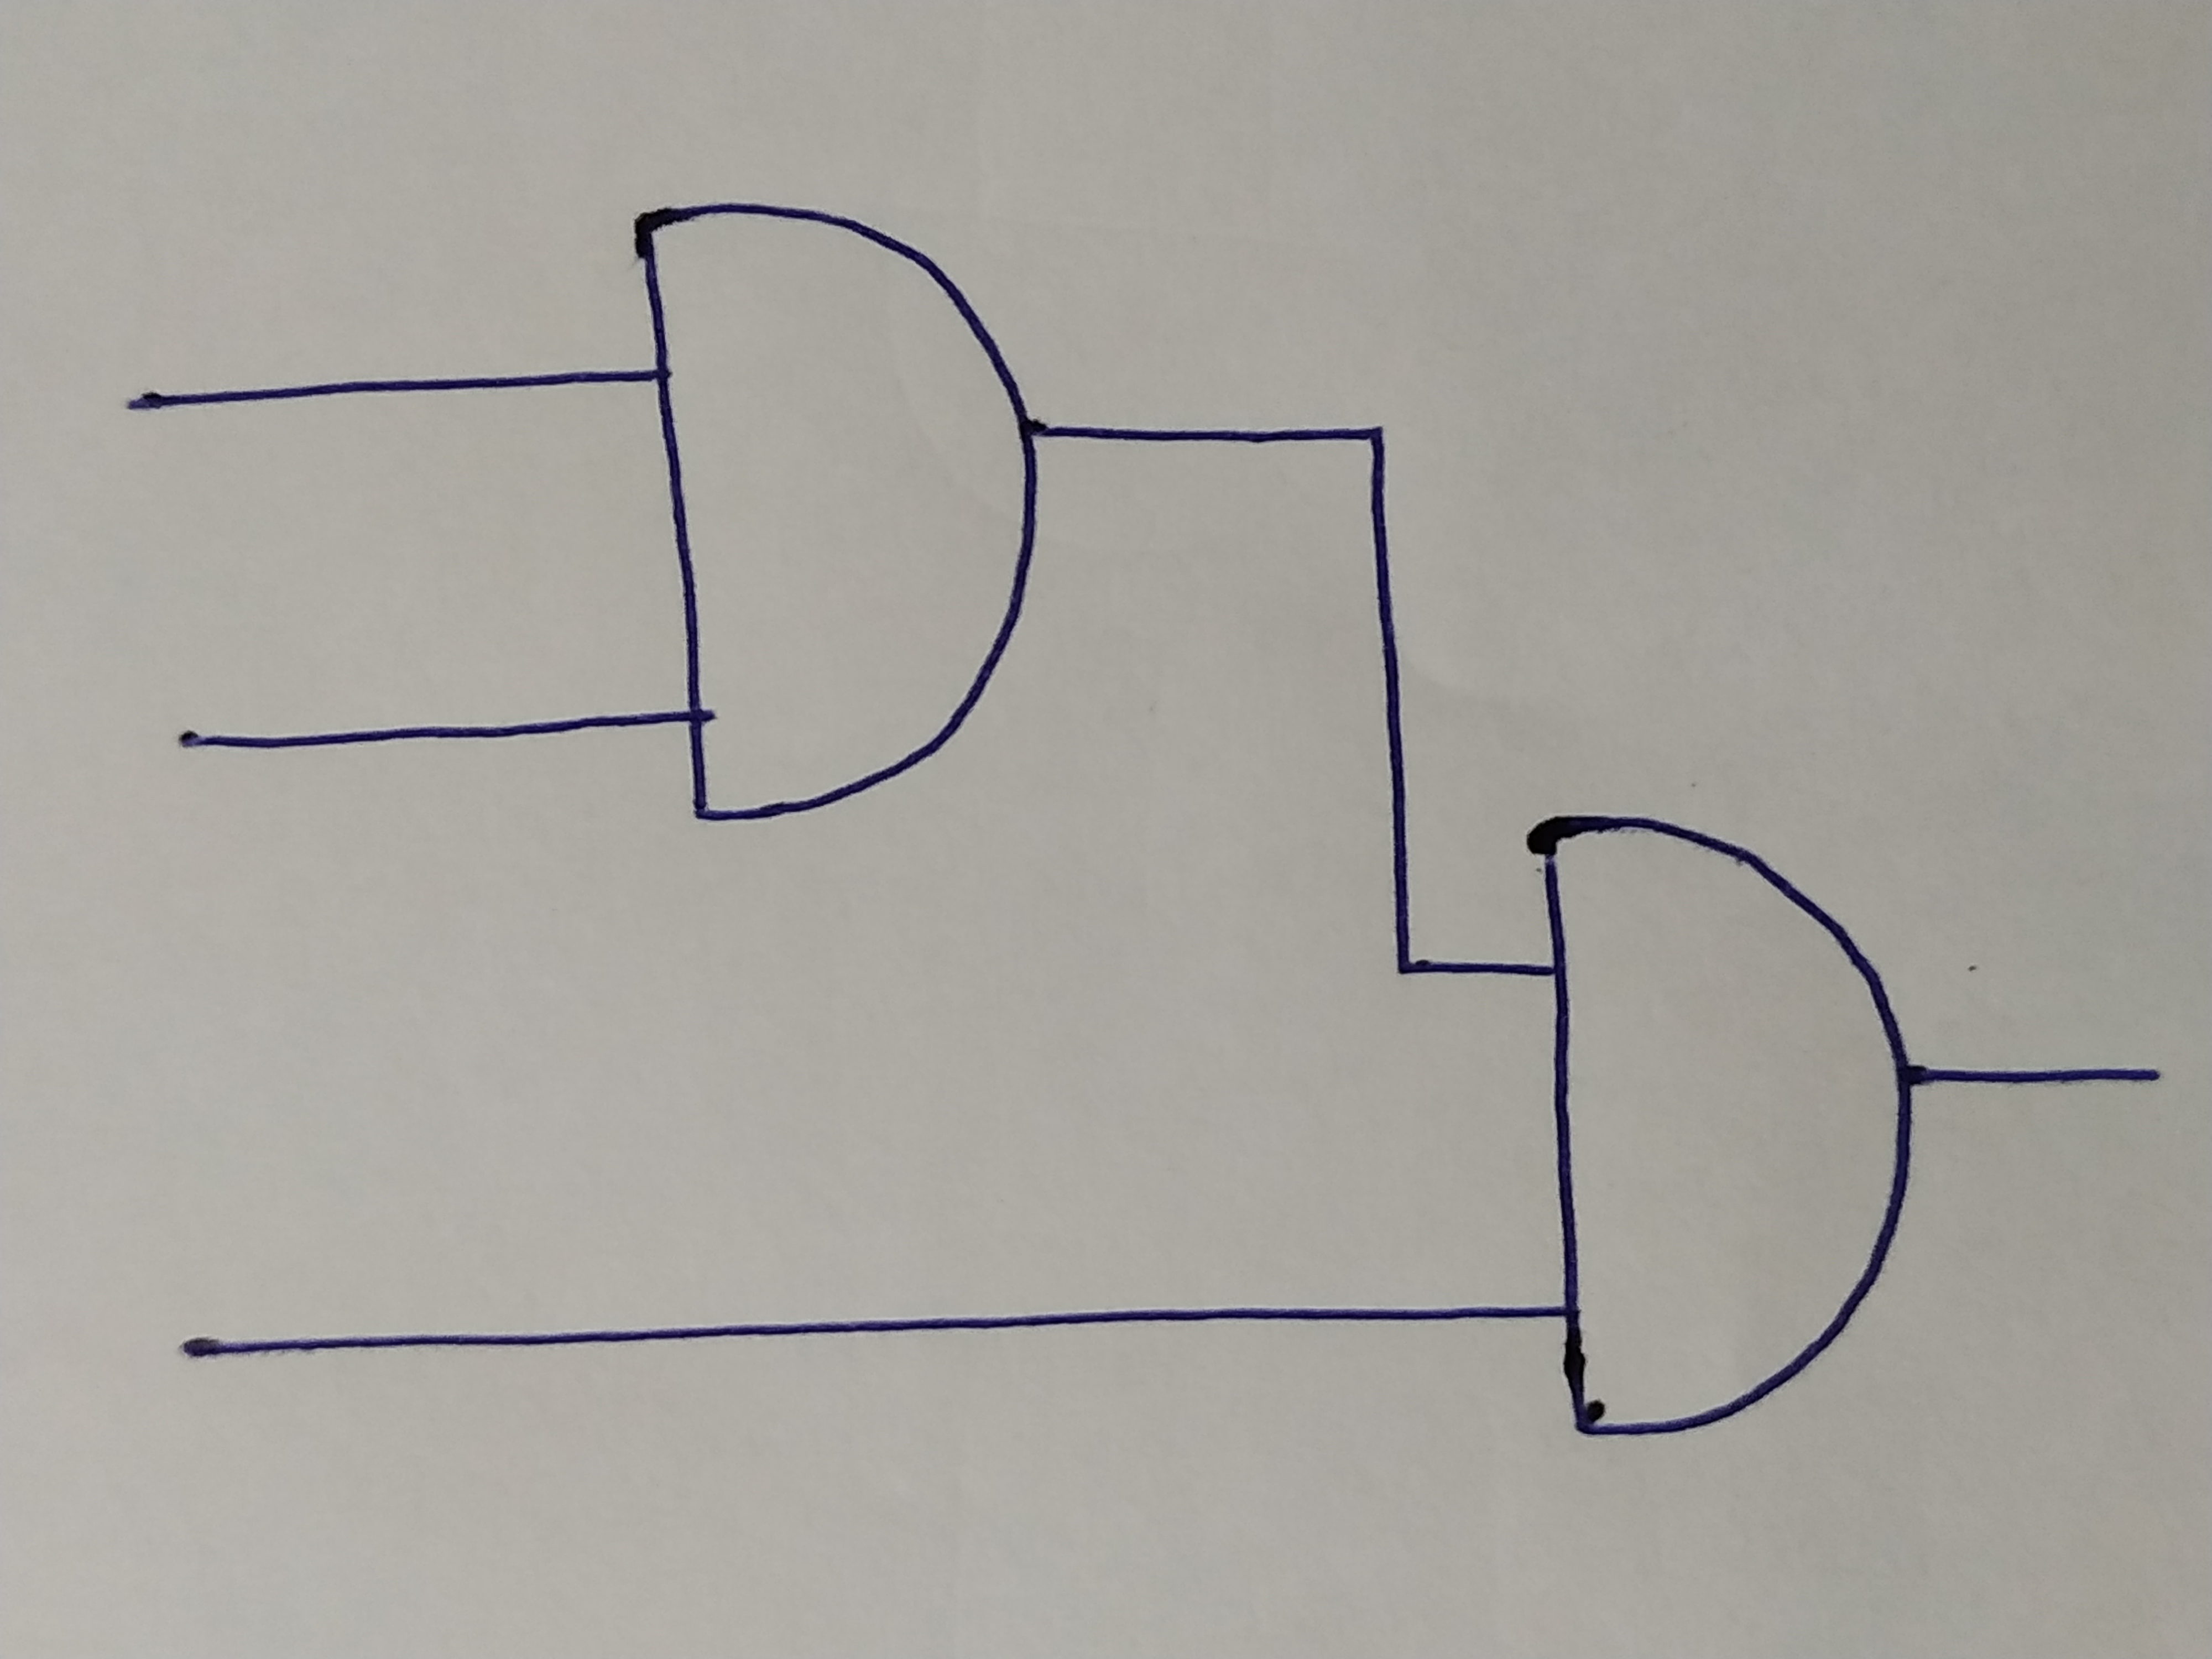and: (632, 197, 1029, 823), (1533, 817, 1912, 1441)
